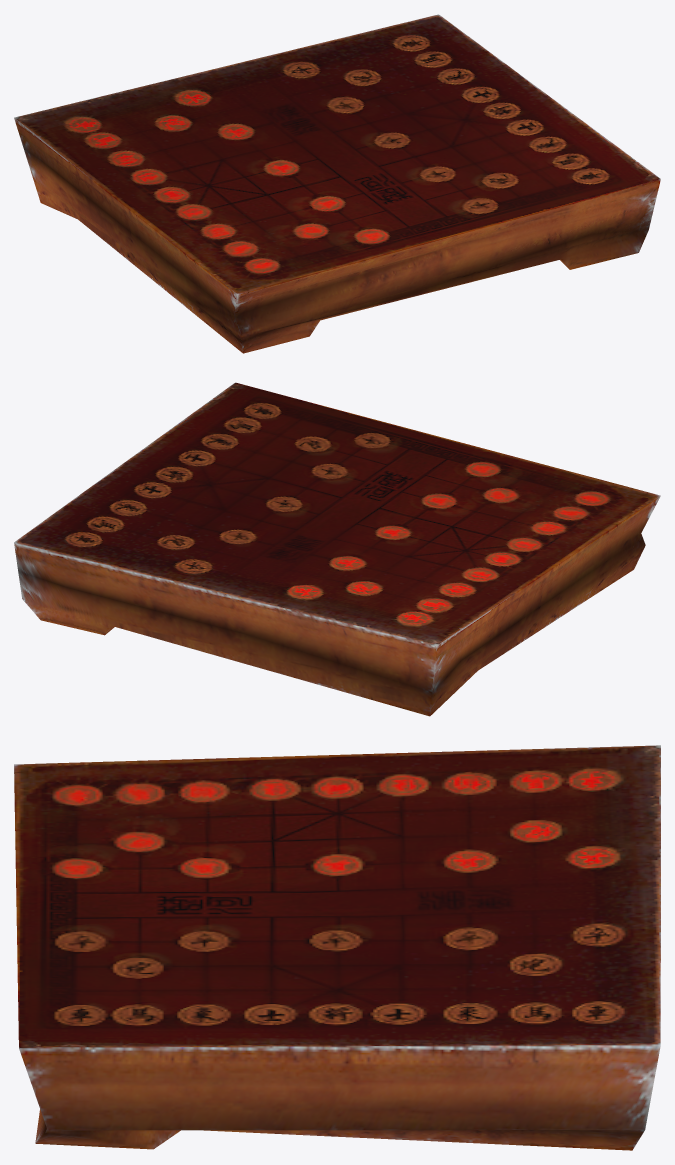
3 views of the same model, one above another, from view 1: azimuth 30°, elevation 25°; view 2: azimuth 150°, elevation 25°; view 3: azimuth 270°, elevation 25° (orthographic). The views are drawn at different scales.
Parts seen in each view (by area): view 1: pMesh1; view 2: pMesh1; view 3: pMesh1.
Part boxes in pixels (box(x1,y1,x2,y2)): pMesh1: box(14, 14, 660, 353); pMesh1: box(14, 382, 660, 716); pMesh1: box(14, 745, 660, 1150).
Bounding box in the file's own units: 115 × 21.57 × 104.
Materials: 1 (1 with a texture image).
